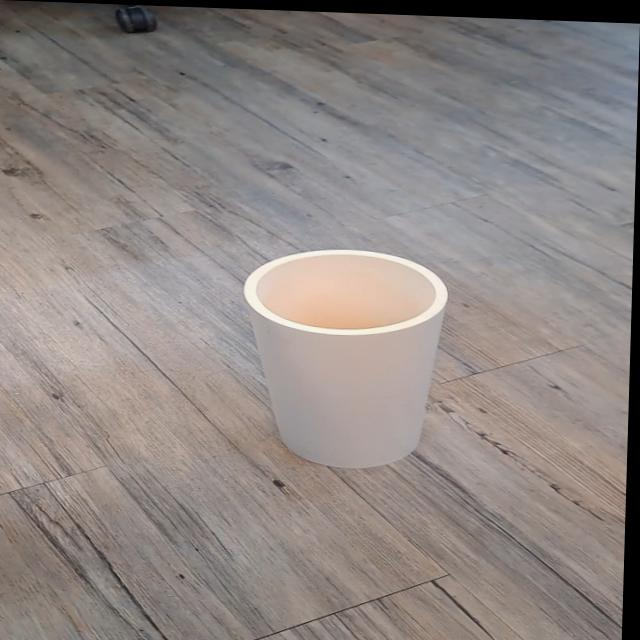CORAL: (206, 227, 574, 509)
